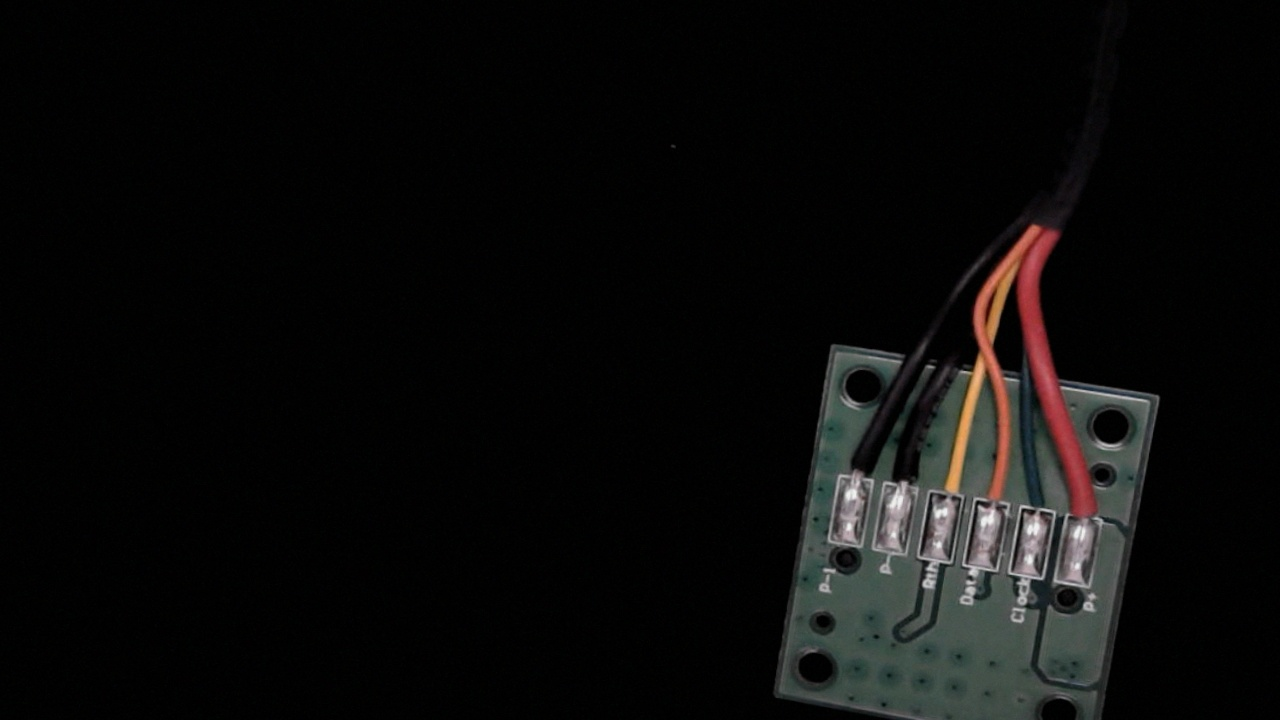Black: (883, 428, 931, 506)
Black1: (832, 417, 883, 496)
Green: (1015, 459, 1066, 531)
Orange: (972, 451, 1020, 524)
Red: (1062, 458, 1115, 540)
Yellow: (929, 438, 972, 514)
